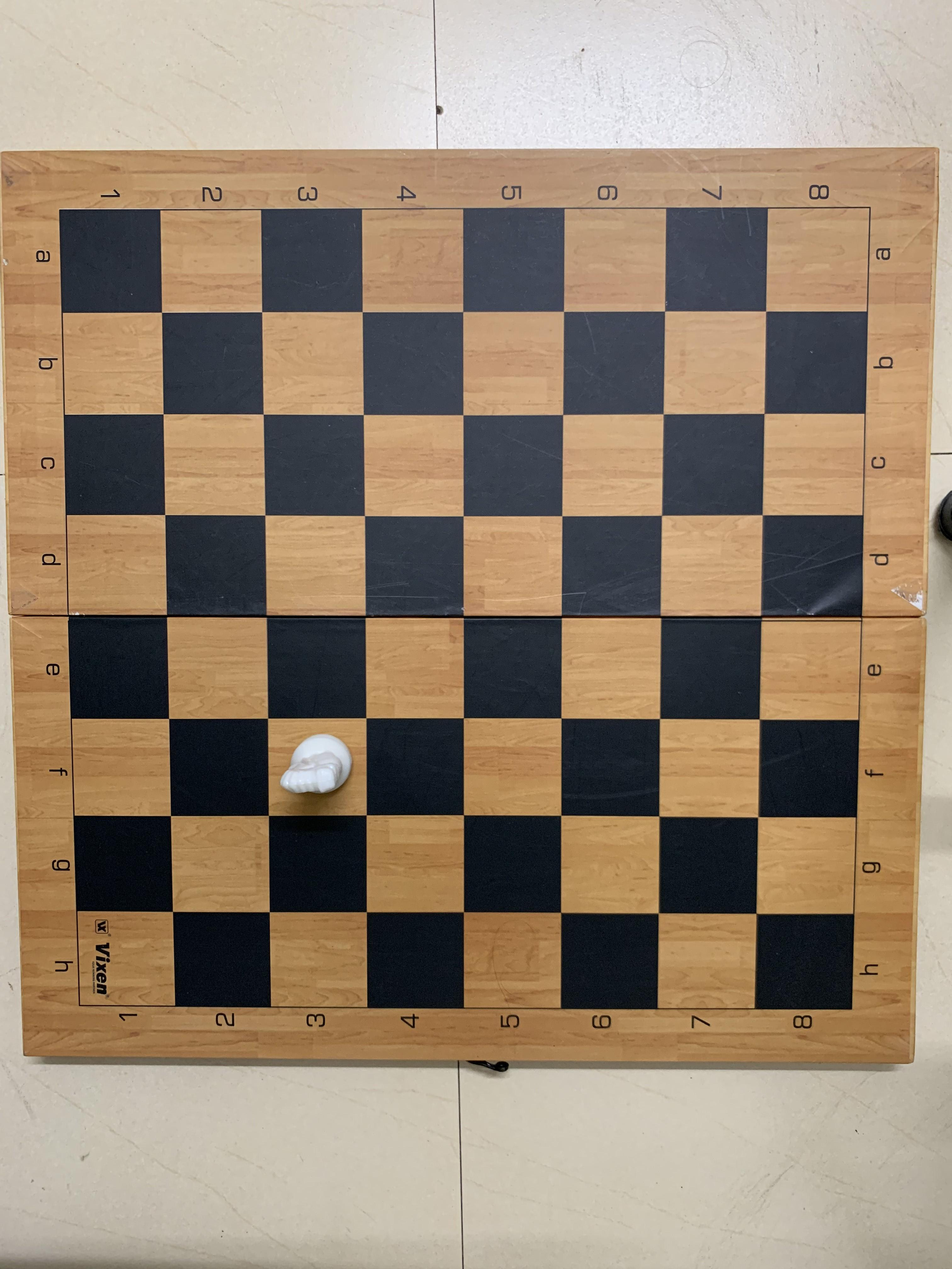white_knight: (274, 721, 370, 819)
